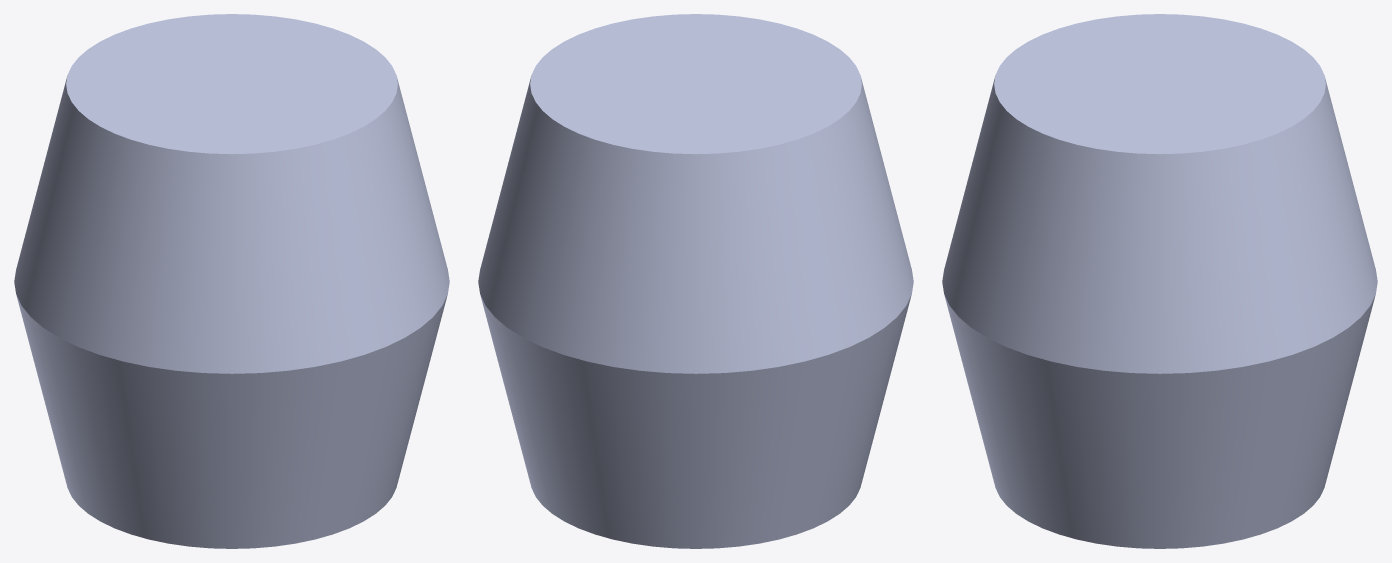
File: Rubber Post Cap.fbx
3 views of the same model, side by side, from view 1: azimuth 30°, elevation 25°; view 2: azimuth 150°, elevation 25°; view 3: azimuth 270°, elevation 25° (orthographic).
Parts seen in each view (by area): view 1: Rubber Post Cap; view 2: Rubber Post Cap; view 3: Rubber Post Cap.
Part boxes in pixels (left/top/right/bottom): Rubber Post Cap: left=14, top=14, right=449, bottom=548; Rubber Post Cap: left=478, top=14, right=913, bottom=548; Rubber Post Cap: left=942, top=14, right=1377, bottom=548.
Bounding box in the file's own units: 0.7938 × 0.7938 × 0.7938.
